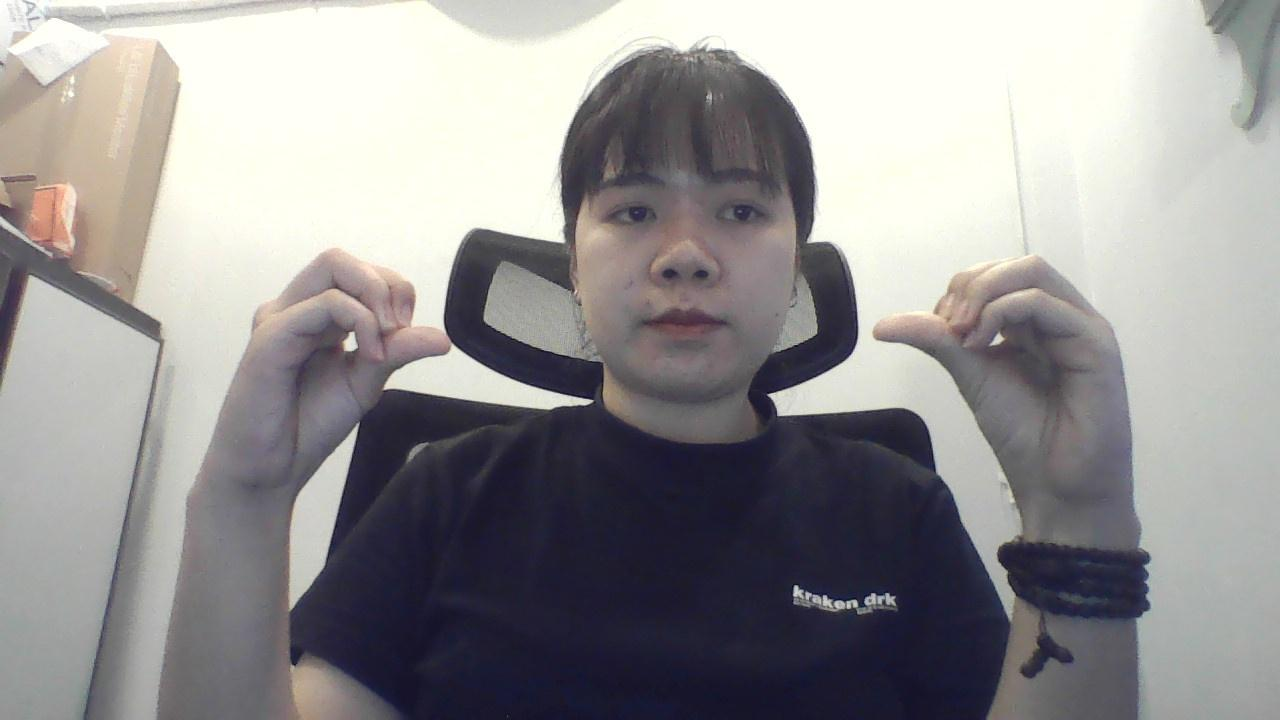S: (164, 234, 466, 491), (862, 255, 1165, 500)
